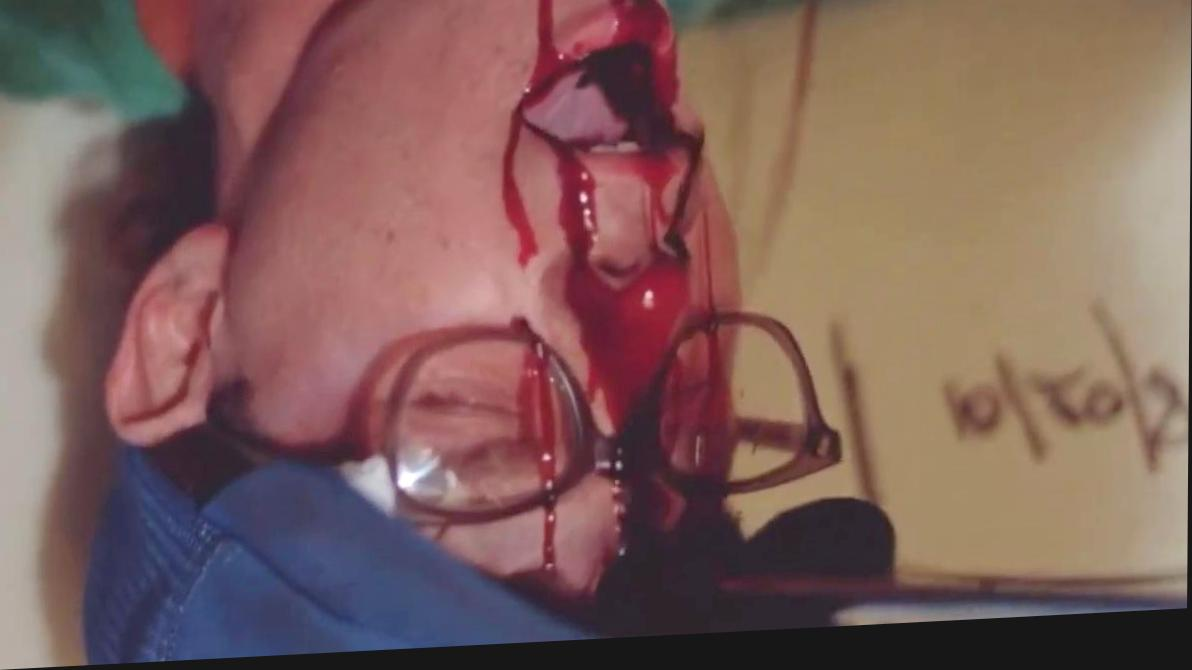Fire: (383, 0, 843, 596)
